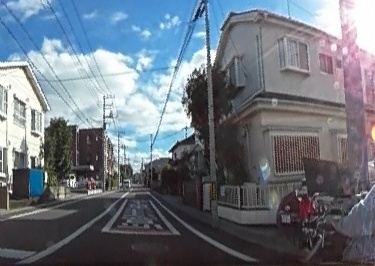person: (335, 79, 375, 260)
